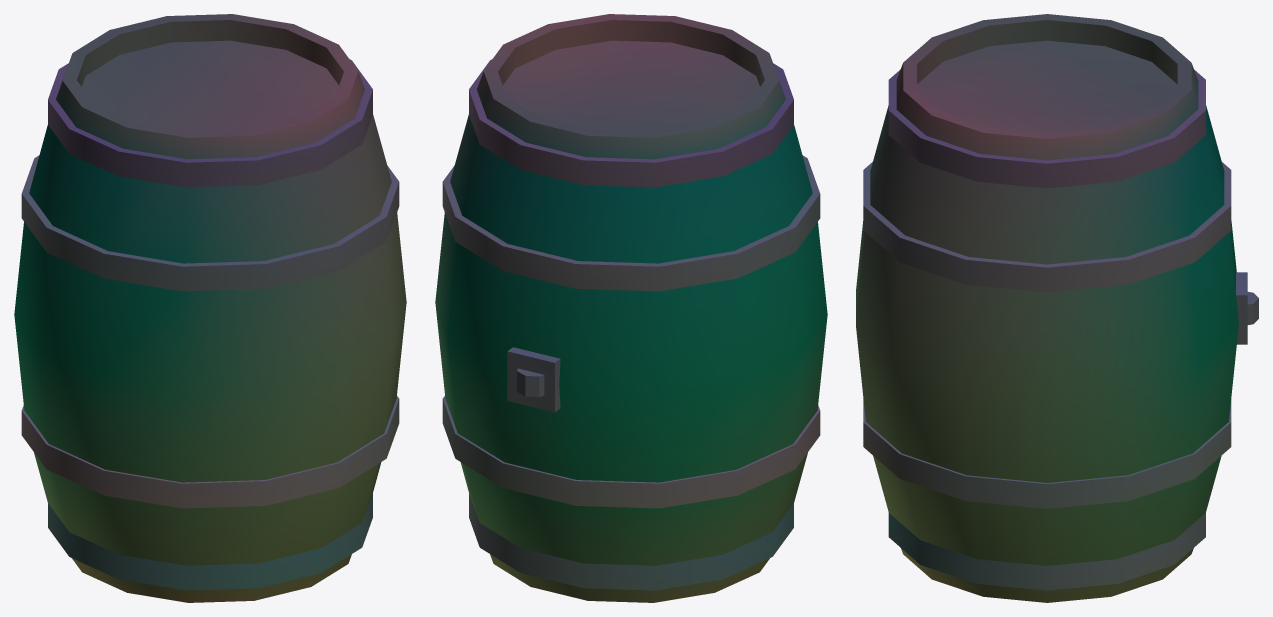
File: barrel.glb
3 renders of one model, left to right at view 1: azimuth 30°, elevation 25°; view 2: azimuth 150°, elevation 25°; view 3: azimuth 270°, elevation 25°, orthographic.
Visible parts, largest first — view 1: staves, hoop_2, hoop_1, hoop_3, hoop; view 2: staves, hoop_2, hoop_1, hoop_3, hoop, barrel_bung; view 3: staves, hoop_2, hoop_3, hoop_1, hoop, barrel_bung.
Boxes of the visible parts, <box> form: staves: <box>14,14,406,602</box>; hoop_2: <box>21,155,399,291</box>; hoop_1: <box>21,396,399,508</box>; hoop_3: <box>48,59,372,187</box>; hoop: <box>48,493,372,590</box>; staves: <box>435,14,827,602</box>; hoop_2: <box>442,155,820,291</box>; hoop_1: <box>442,396,820,508</box>; hoop_3: <box>469,59,793,187</box>; hoop: <box>469,493,793,590</box>; barrel_bung: <box>507,347,560,412</box>; staves: <box>856,14,1238,602</box>; hoop_2: <box>863,162,1231,292</box>; hoop_3: <box>888,69,1205,188</box>; hoop_1: <box>863,399,1231,508</box>; hoop: <box>888,513,1205,590</box>; barrel_bung: <box>1236,272,1258,344</box>.
Size of the model in its own units: 0.69 by 0.9 by 0.7084.
